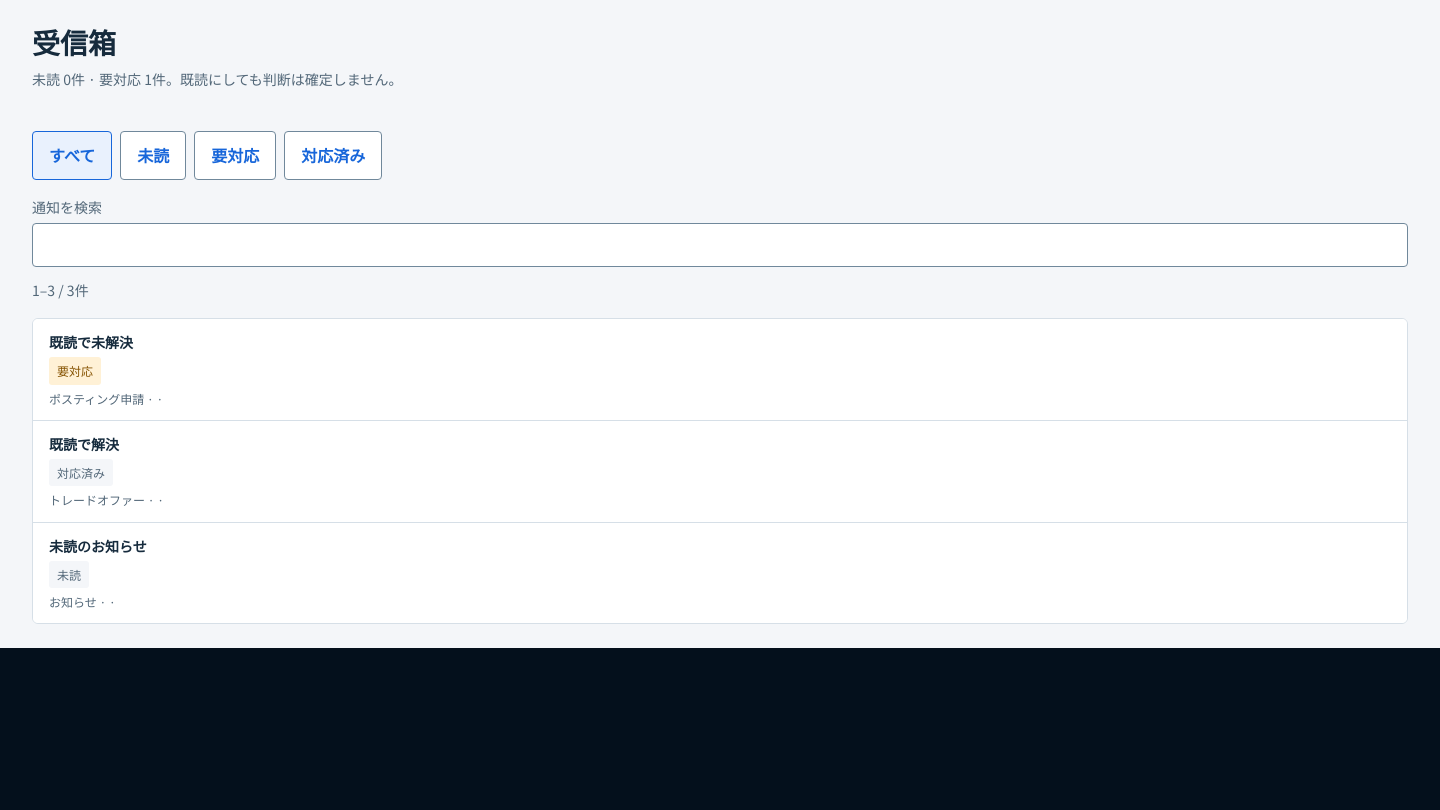
unread and actionable filters use independent persisted mail states
Click the button "要対応": {"x": 235, "y": 156} [194, 132, 276, 180]
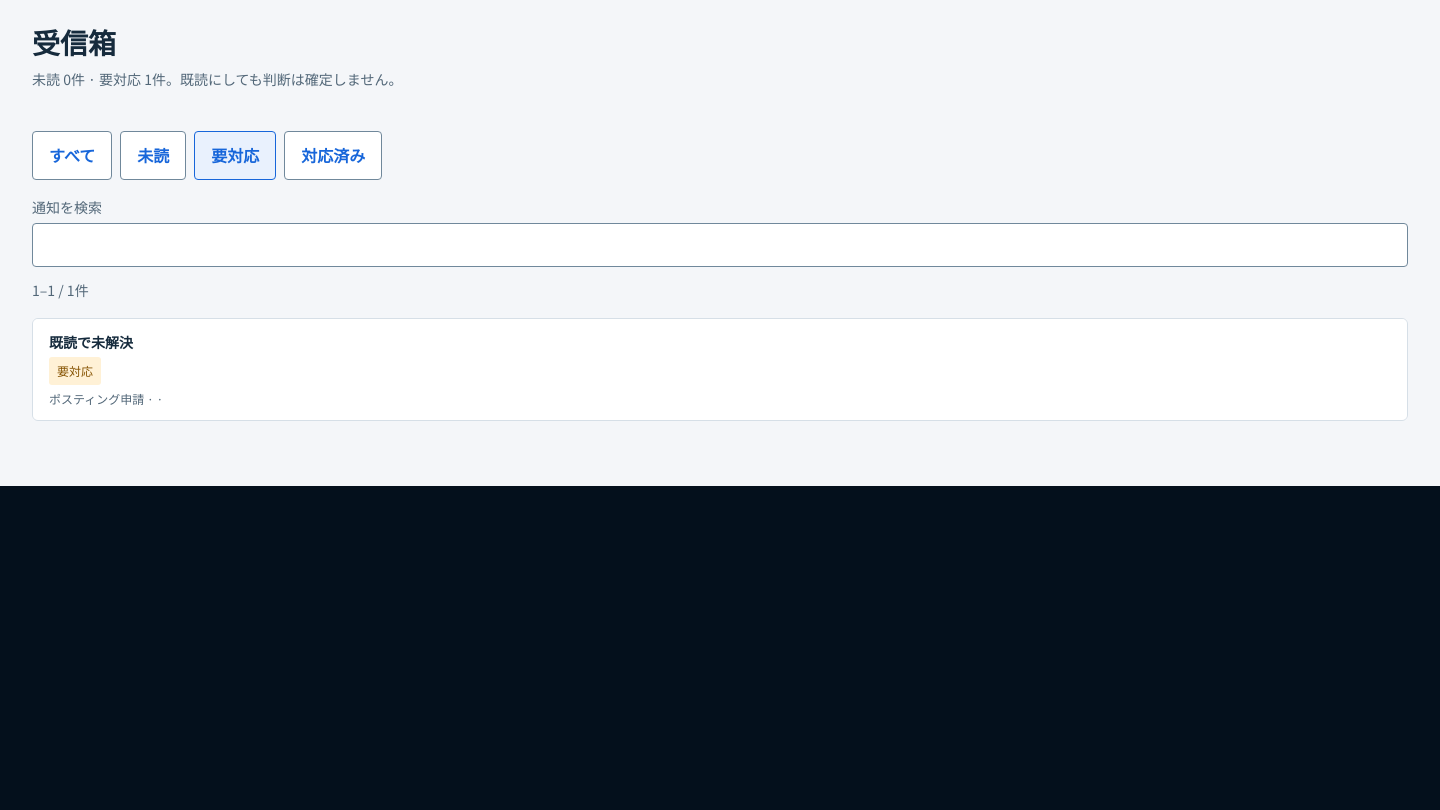
expect the text "既読で未解決" is shown: met, box [49, 332, 133, 352]
expect the text "既読で解決" is gone: met
expect the text "未読のお知らせ" is gone: met
Click the button "未読": {"x": 153, "y": 156} [120, 132, 186, 180]
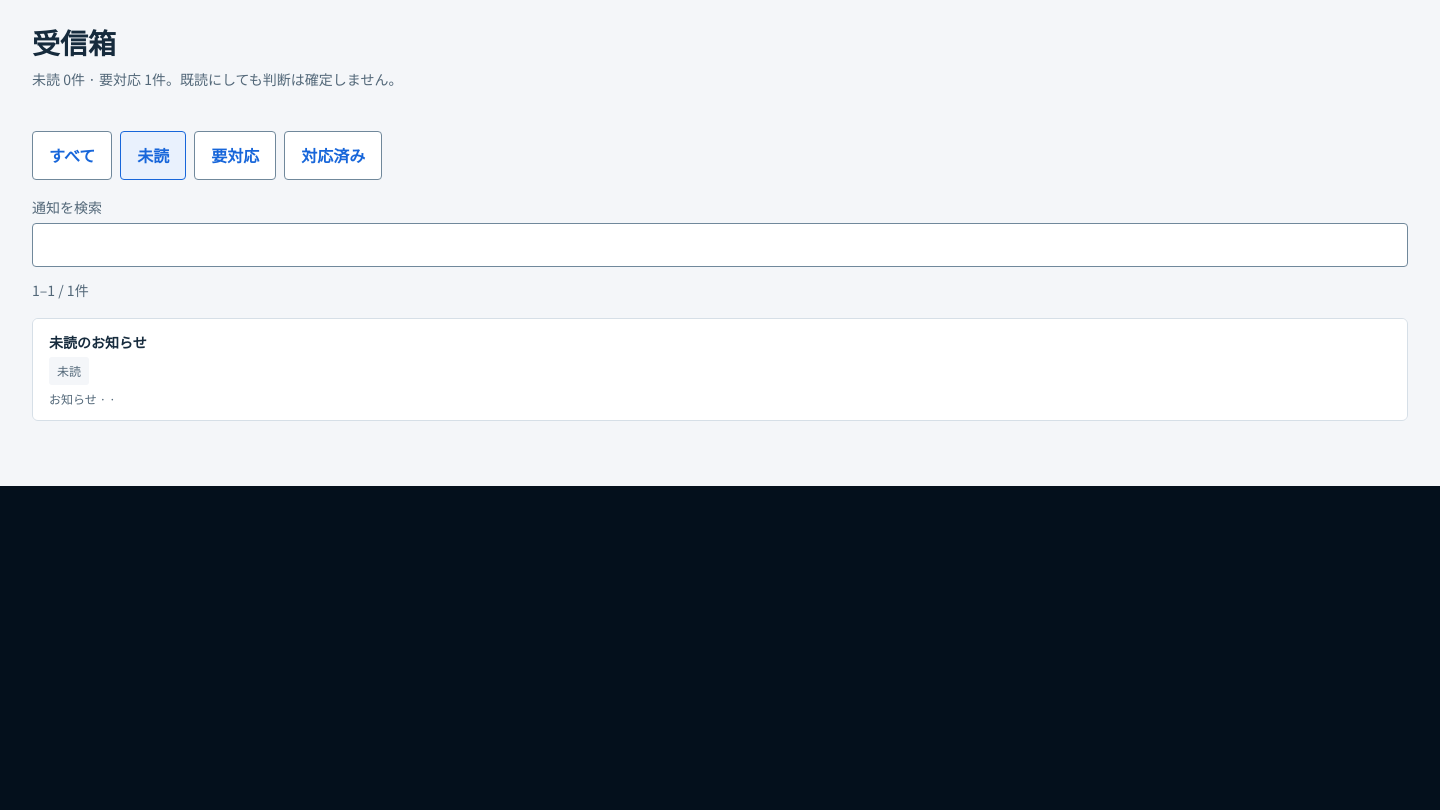
expect the text "未読のお知らせ" is shown: met, box [49, 332, 147, 352]
expect the text "既読で未解決" is gone: met
